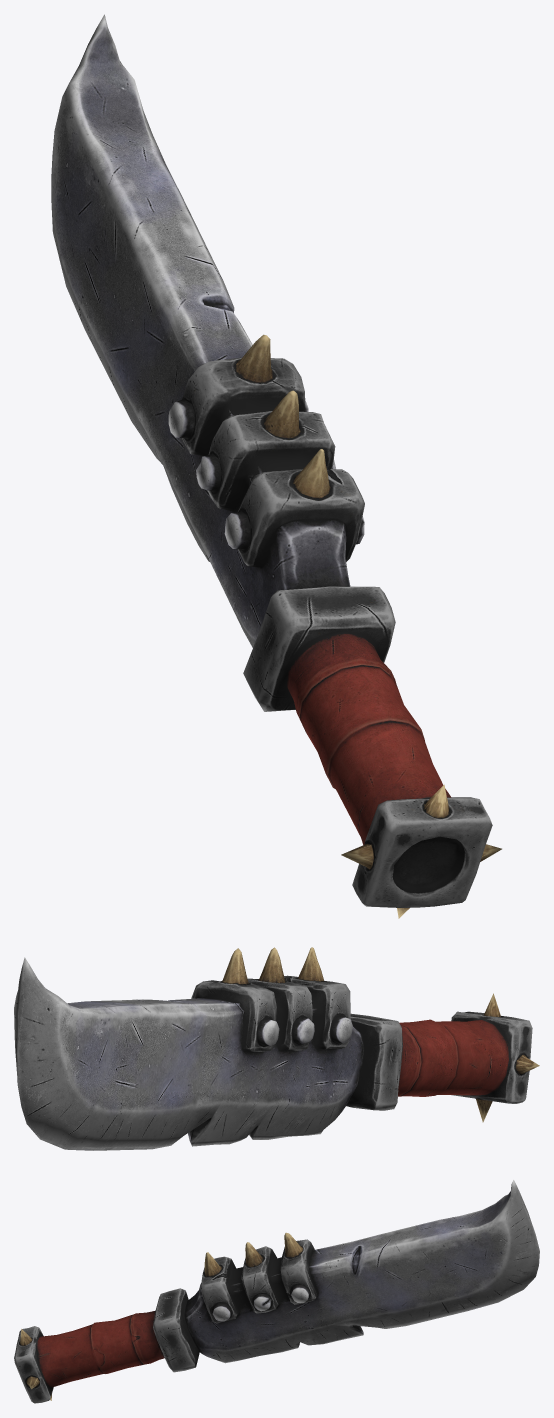
Rendered from sword.glb.
3 views of the same model, one above another, from view 1: azimuth 30°, elevation 25°; view 2: azimuth 150°, elevation 25°; view 3: azimuth 270°, elevation 25° (orthographic). The views are drawn at different scales.
Parts seen in each view (by area): view 1: RetopoGroup1; view 2: RetopoGroup1; view 3: RetopoGroup1.
Part boxes in pixels (x1,y1,x2,y2): RetopoGroup1: [51, 14, 501, 918]; RetopoGroup1: [14, 947, 539, 1150]; RetopoGroup1: [14, 1180, 539, 1403].
Size of the model in its own units: 335 by 652 by 1183.
1 material, 1 textured.
